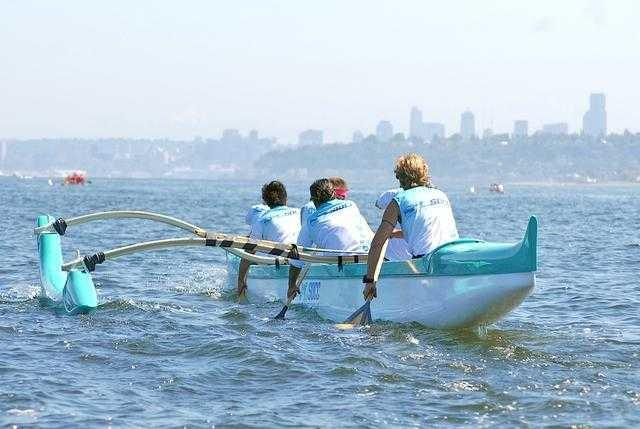kayak: (192, 213, 541, 333), (32, 214, 99, 315), (463, 182, 480, 194), (488, 182, 504, 193)
